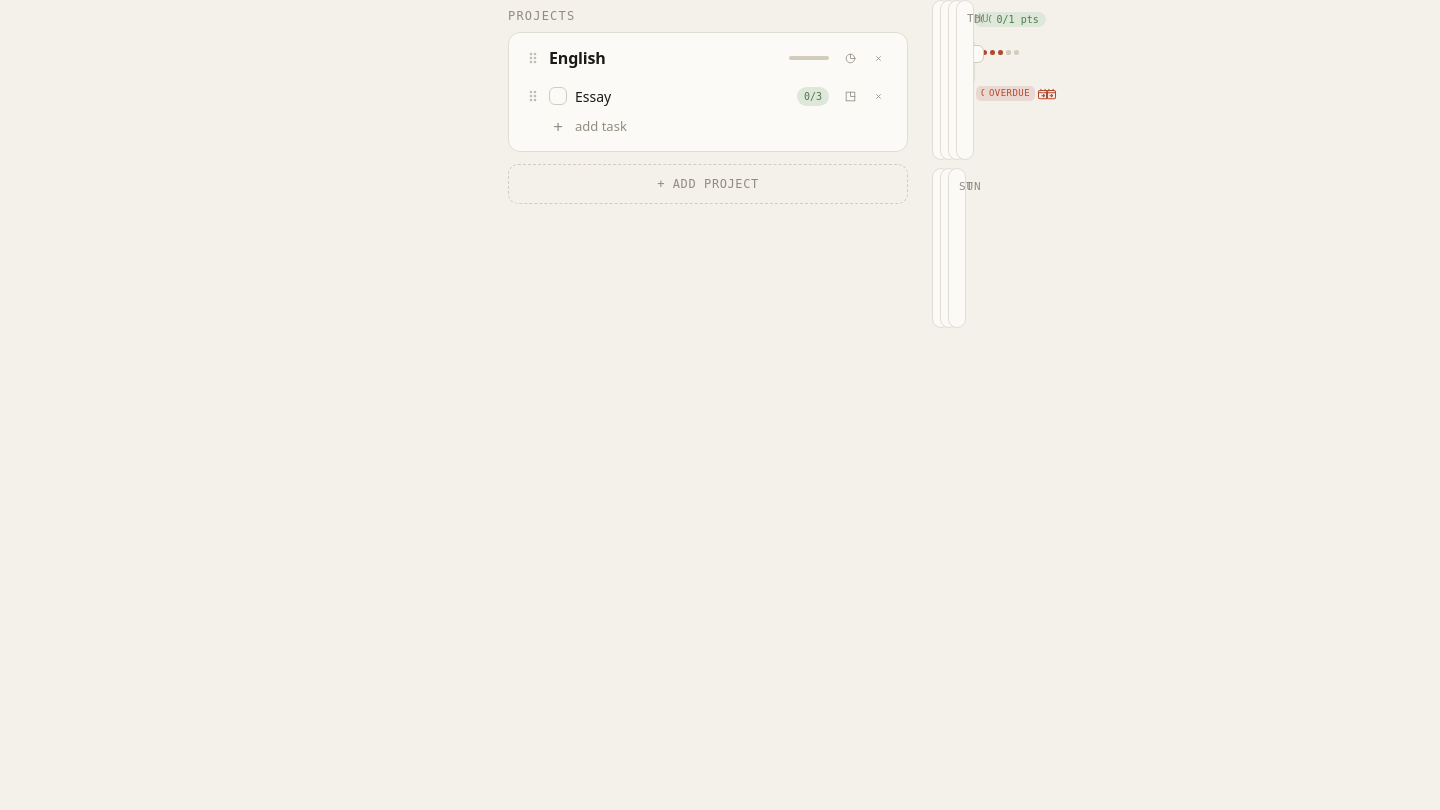
Test case: WeekBoard › the task confirm names the task, its project, and counts its subtasks
This screenshot has width=1440, height=810.
Click the button named "Delete task". click: point(878, 96)
box: [865,83,891,109]
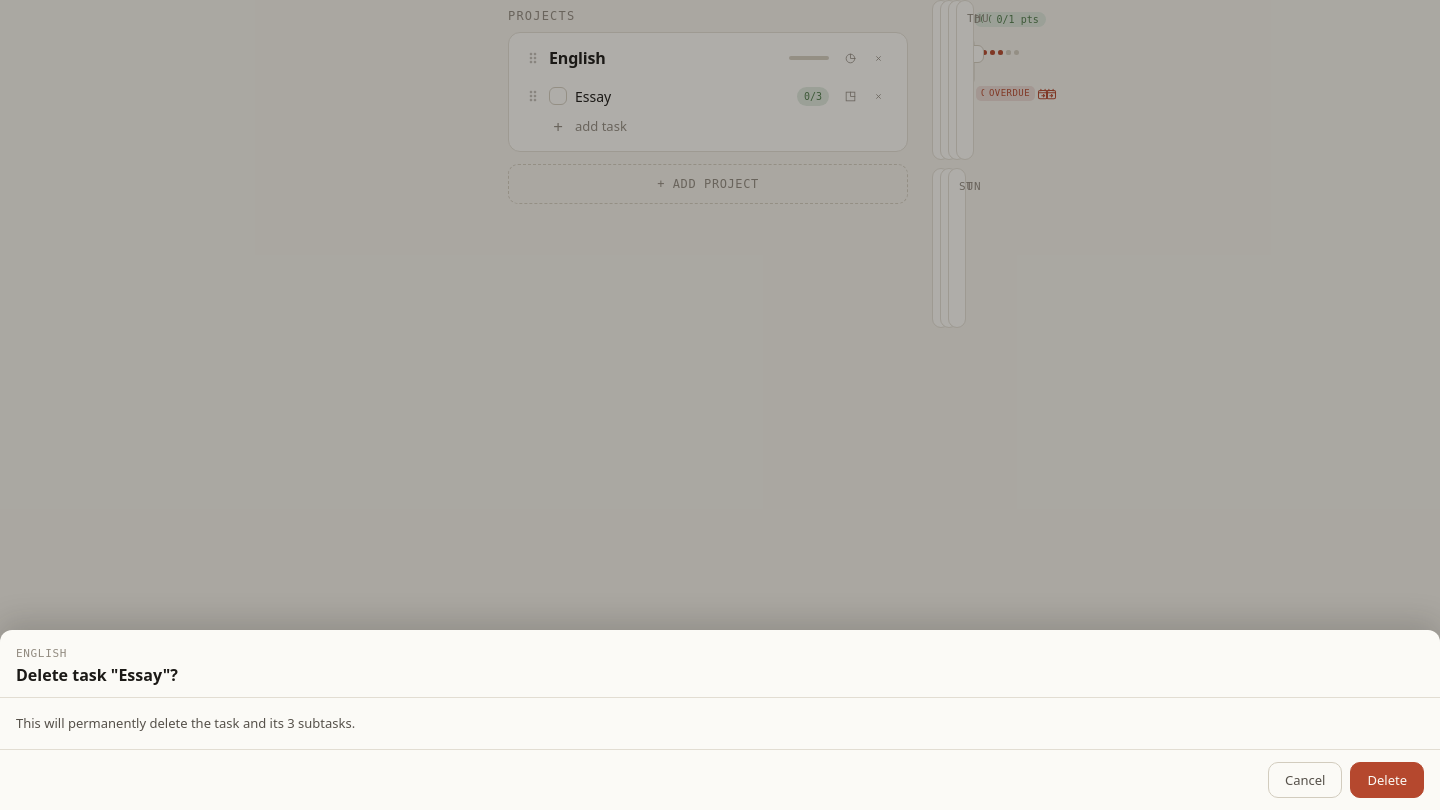
Expected: the heading "Delete task \"Essay\"?" is shown, [16,664,178,686]
Expected: the text "English" is shown, [16,647,67,660]
Expected: the text "This will permanently delete the task and its 3 subtasks." is shown, [16,714,355,732]
